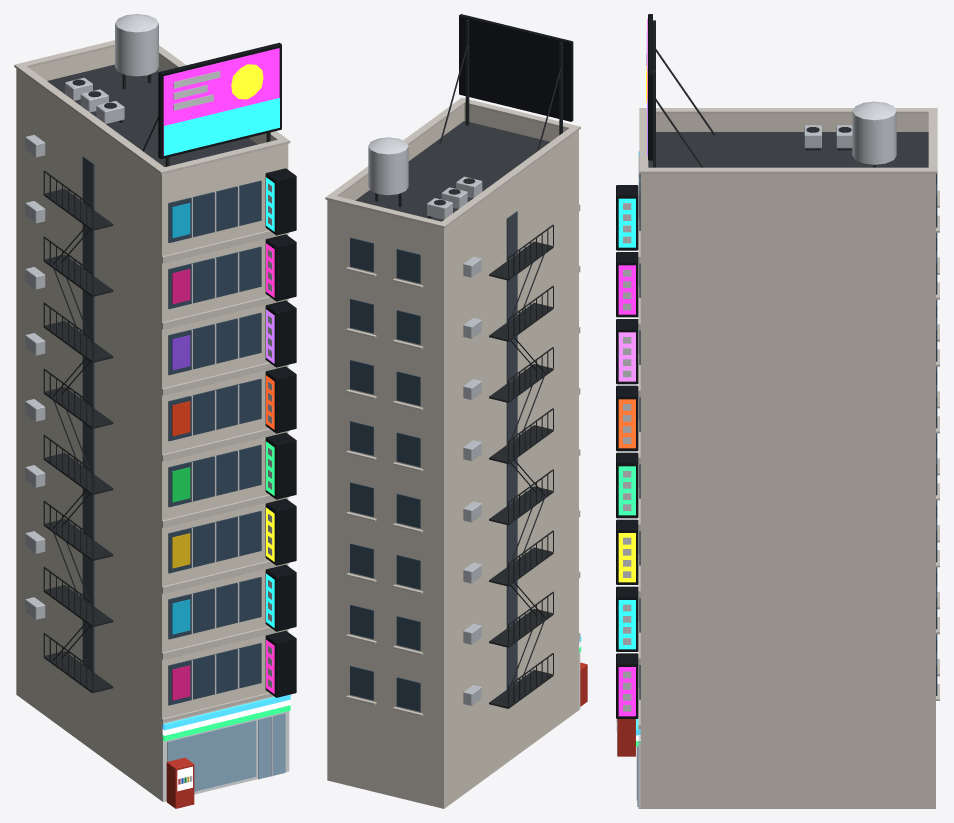
The model's file is pencil.glb.
3 views of the same model, side by side, from view 1: azimuth 30°, elevation 25°; view 2: azimuth 150°, elevation 25°; view 3: azimuth 270°, elevation 25° (orthographic). The views are drawn at different scales.
Visible parts, largest first — view 1: pencil; view 2: pencil; view 3: pencil.
Part boxes in pixels (x1,y1,x2,y2): pencil: (14, 14, 296, 808); pencil: (325, 14, 587, 808); pencil: (616, 14, 939, 808).
Bounding box in the file's own units: 7.06 × 32.9 × 13.15.
